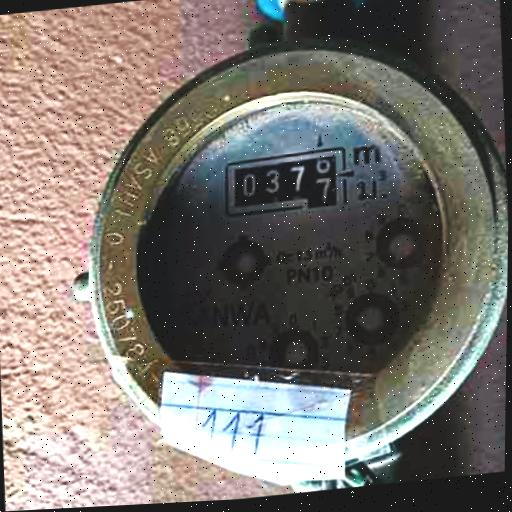0: (233, 163, 261, 207)
3: (257, 161, 287, 204)
6: (306, 154, 338, 207)
7: (283, 157, 311, 201)
border_water_meter_number: (221, 145, 349, 217)
